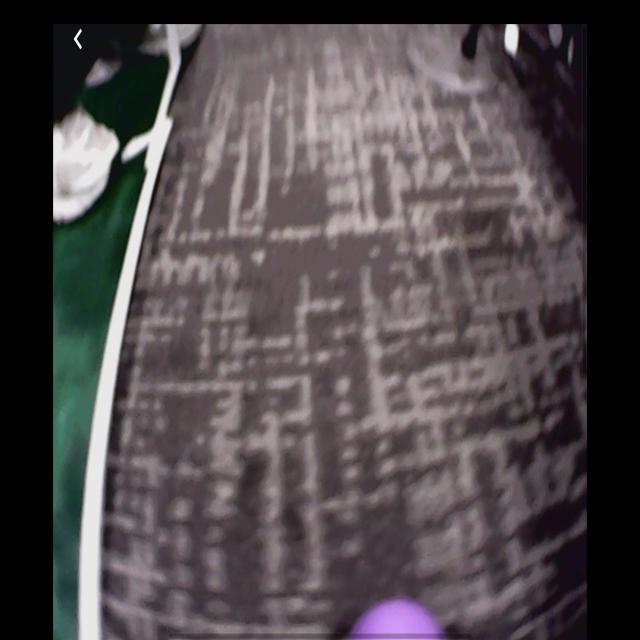ball: (351, 601, 440, 640)
